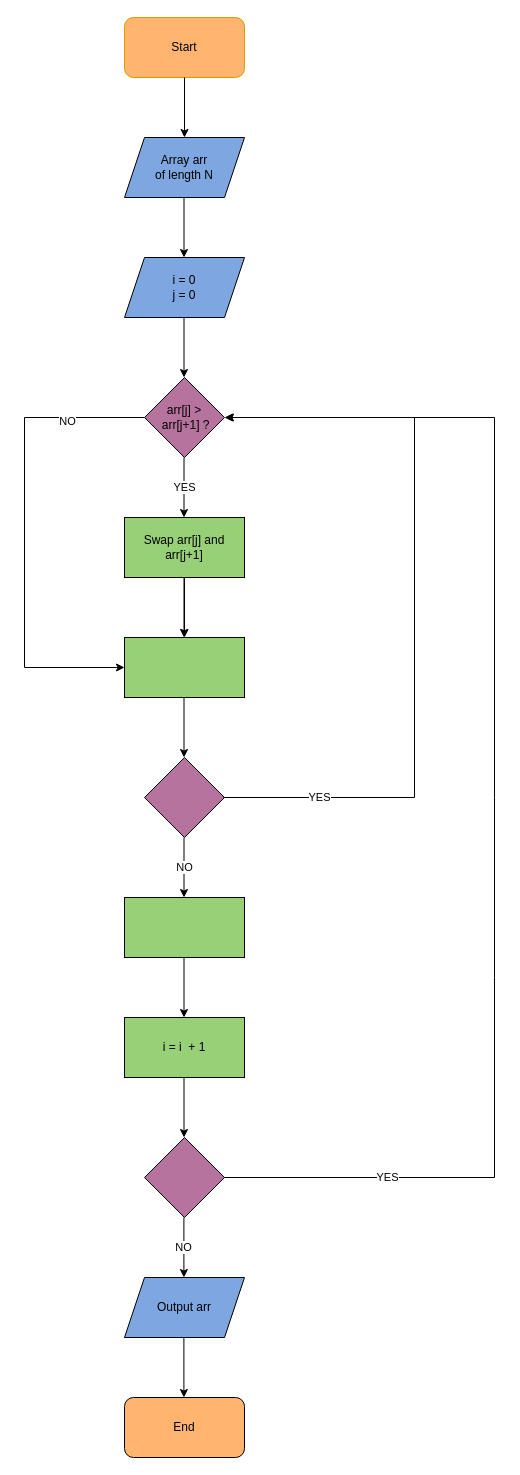
The diagram is 520 pixels wide and 1475 high, and some of its shapes have lost their labels. The shapes that lost their labels are listed below. From the top down, each one's centre as x and y in pixels, then its label:
At [184,667]: "j = j + 1".
At [184,797]: "j < N - i - 1 ?".
At [184,927]: "j = 0".
At [184,1177]: "i < N - 1 ?".
